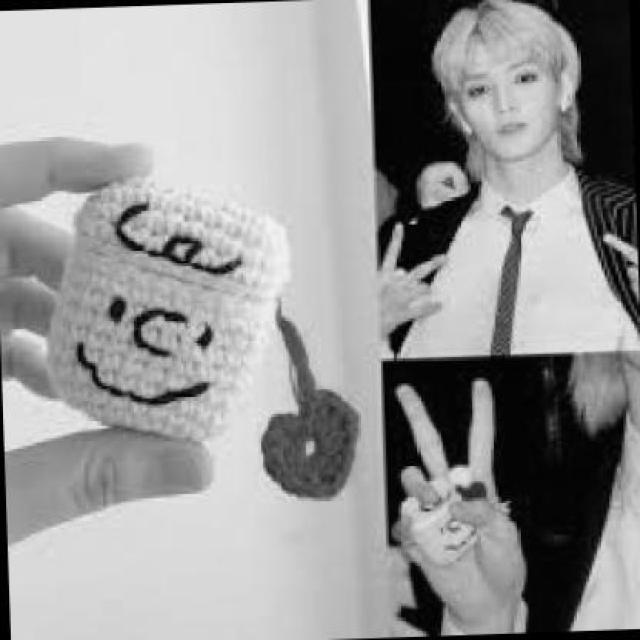earphone: (415, 473, 501, 568), (446, 104, 494, 154), (549, 79, 581, 116)
